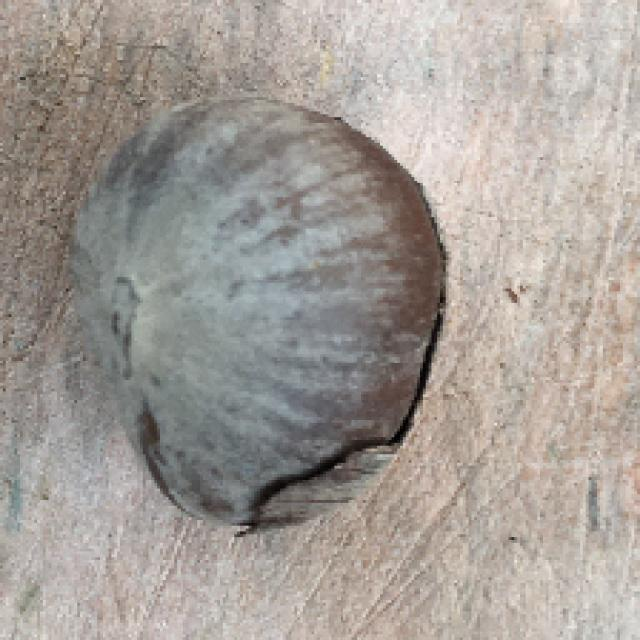damagedHazelnut: (65, 95, 454, 532)
